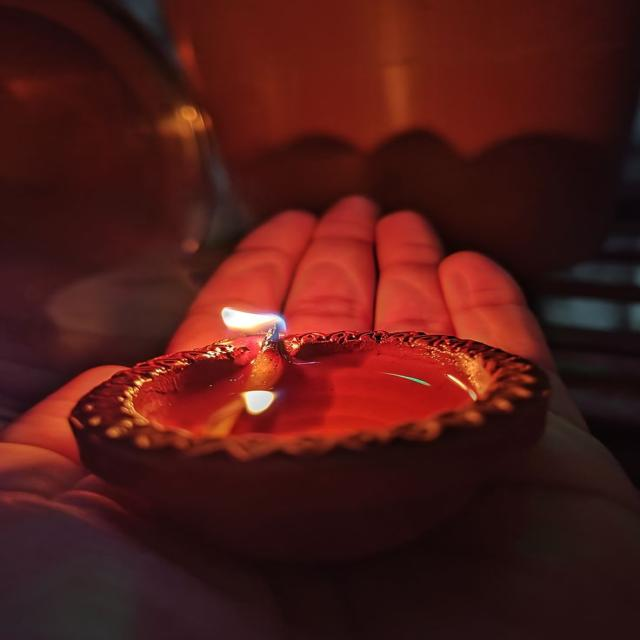fire: (220, 307, 288, 334)
